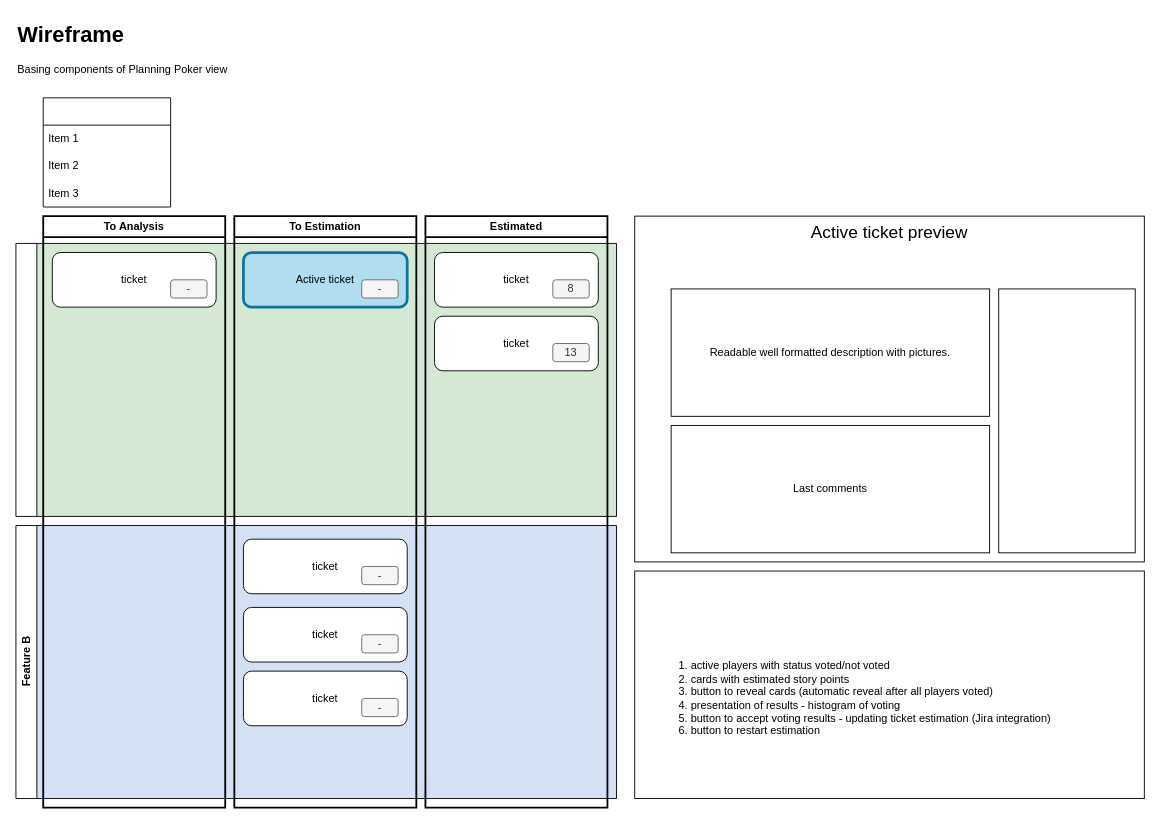
Image size: 1160x824. Some labels were removed from this diagram. The shapes that lost their labels are listed below. From the top down, each one's box as (x1, y1, x2, y2) in pixels, then its label:
(42, 97, 171, 207): Jira filter selector
(15, 243, 617, 516): Feature A
(998, 288, 1135, 553): details: creation, update dates
(634, 570, 1144, 799): Planning poker area
